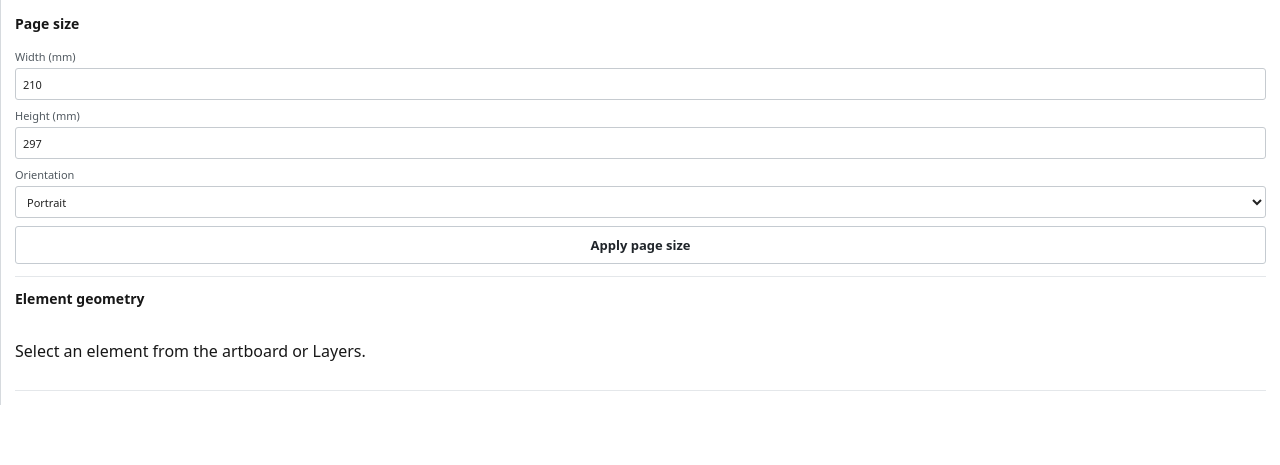
Test case: Inspector › rejects an invalid page size while preserving the entered value for correction
The image size is (1280, 465).
Replace the text in the number field named "Page height (mm)" with "0" at (640, 143), box [15,127,1266,159]
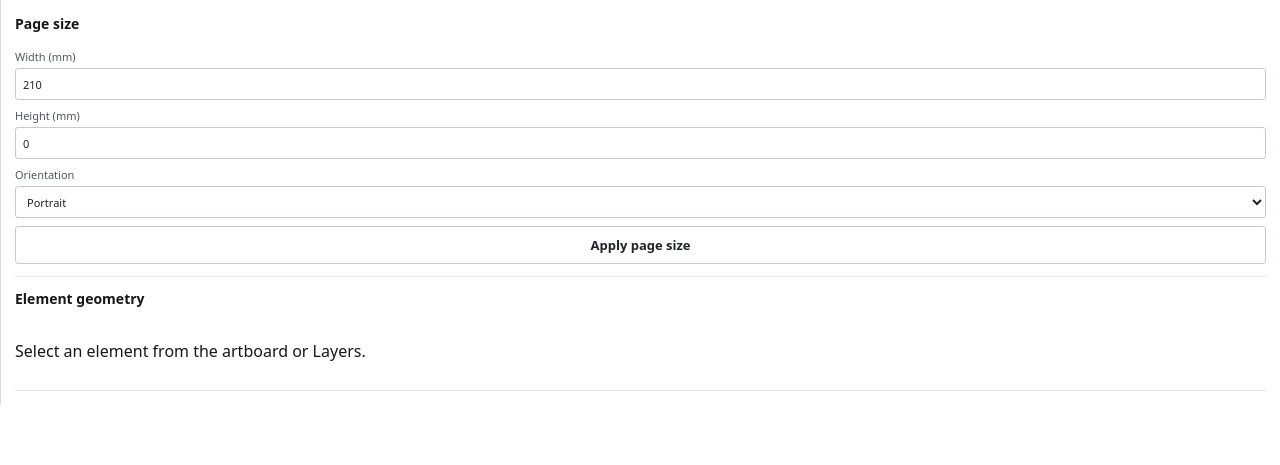
Click the button "Apply page size" at (640, 245), box [15,226,1266,264]
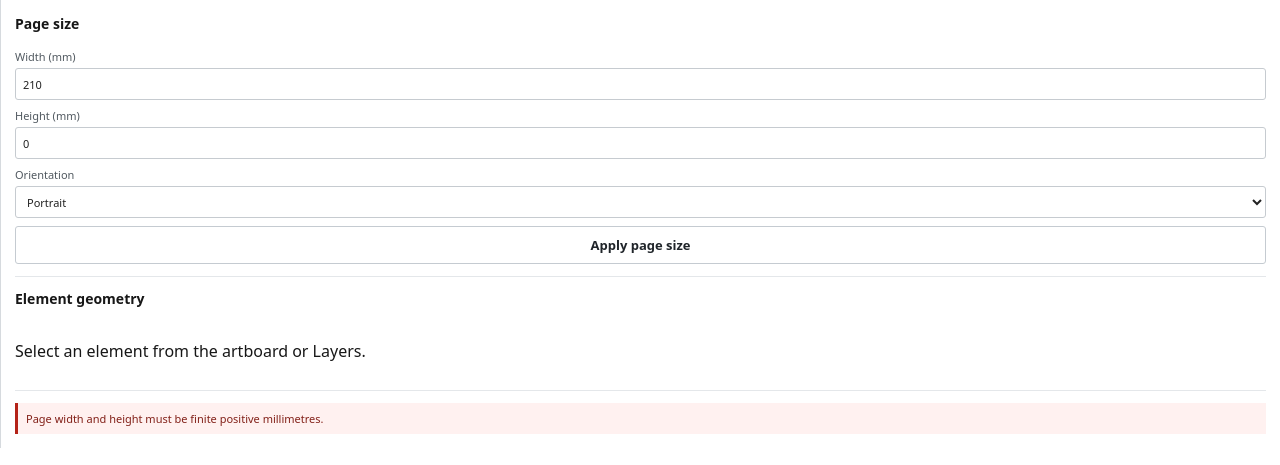
Expected: the message shows "finite positive millimetres", [26,411,324,426]
